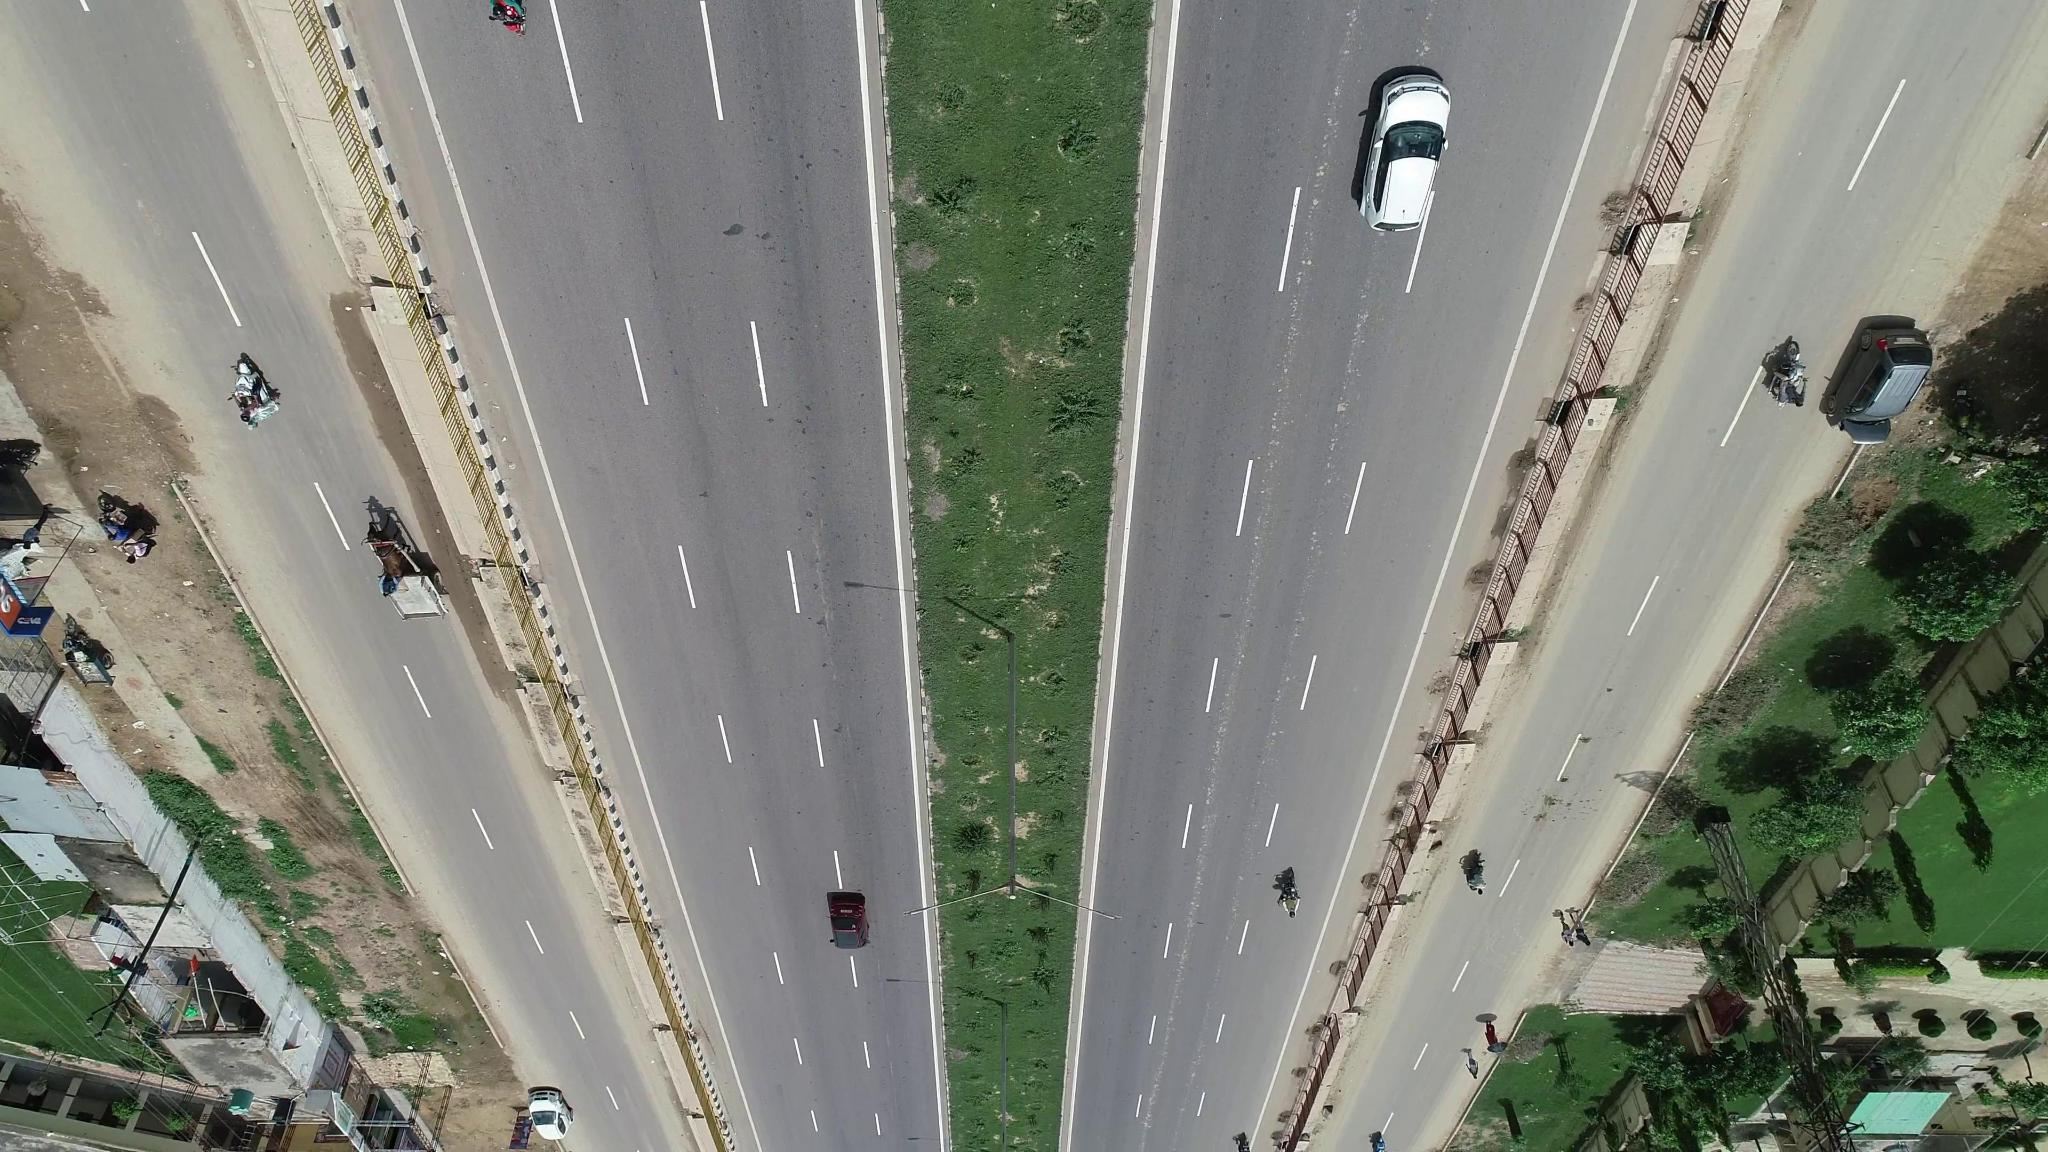Ravelling: (1243, 388, 1288, 626), (1163, 857, 1207, 1035), (1203, 677, 1242, 837)
